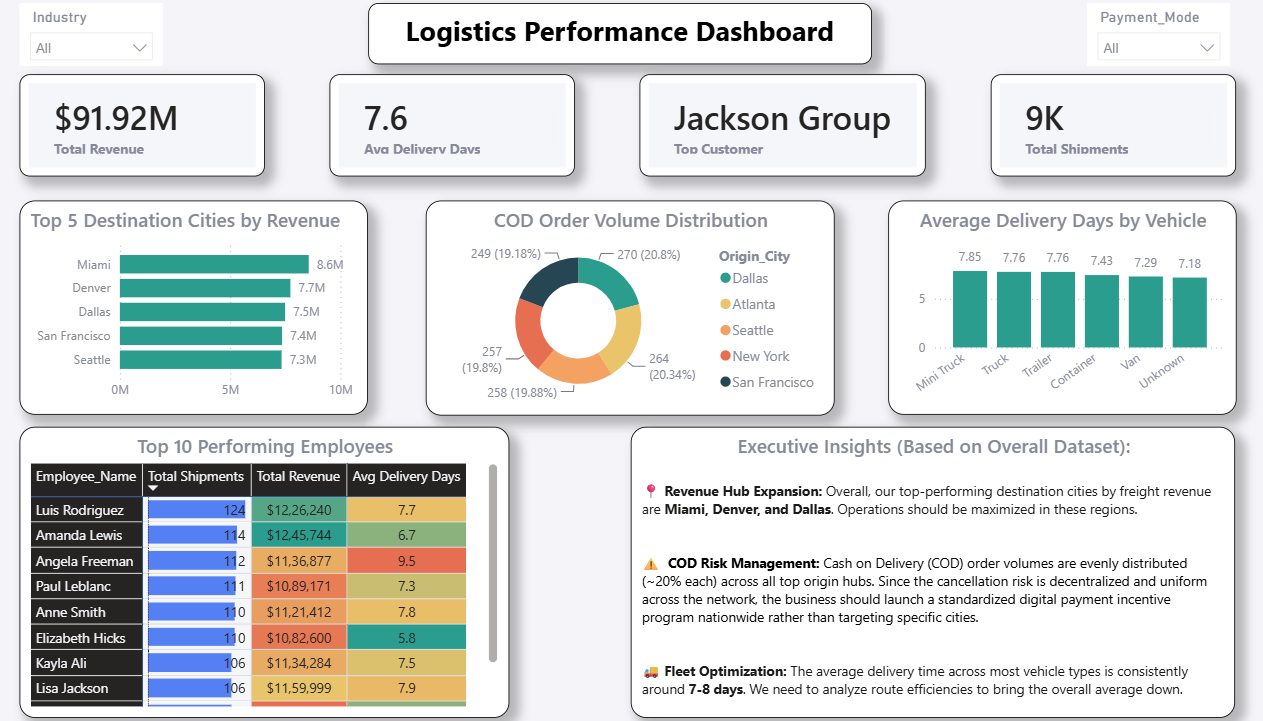

Layout of this report page (visuals, bound fields, positions):
{"tool":"powerbi","page":{"name":"Report","canvas":[1280,720],"ordinal":0},"visuals":[{"type":"textbox","box":[382.7,9.8,492.8,59.9],"z":0},{"type":"slicer","fields":{"Values":["Master_Logistics.Industry"]},"box":[41.3,10,140,61.3],"z":1000},{"type":"slicer","fields":{"Values":["Master_Logistics.Payment_Mode"]},"box":[1086.1,10,140,61.3],"z":2000},{"type":"cardVisual","fields":{"Data":["Master_Logistics.Total Revenue"]},"box":[41.3,79.8,240,100],"z":3000},{"type":"cardVisual","fields":{"Data":["Master_Logistics.Total Shipments"]},"box":[992.1,79.8,240,100],"z":4000},{"type":"cardVisual","fields":{"Data":["Master_Logistics.Avg Delivery Days"]},"box":[344.9,79.8,240,100],"z":5000},{"type":"clusteredBarChart","title":"Top 5 Destination Cities by Revenue","fields":{"Category":["Master_Logistics.Destination_City"],"Y":["Sum(Master_Logistics.Freight_Amount_USD)"]},"box":[41.3,202.4,340.7,209.5],"z":6000},{"type":"donutChart","title":"COD Order Volume Distribution","fields":{"Category":["Master_Logistics.Origin_City"],"Y":["CountNonNull(Master_Logistics.Booking_ID)"],"Series":["Master_Logistics.Payment_Mode"]},"box":[439,202.4,400,210],"z":7000},{"type":"clusteredColumnChart","title":"Average Delivery Days by Vehicle","fields":{"Category":["Master_Logistics.Vehicle_Type"],"Y":["Avg(Master_Logistics.Delivery_Days)"]},"box":[890.9,202.4,340.7,209.5],"z":8000},{"type":"pivotTable","title":"Top 10 Performing Employees","fields":{"Rows":["Master_Logistics.Employee_Name"],"Values":["Master_Logistics.Total Shipments","Master_Logistics.Total Revenue","Master_Logistics.Avg Delivery Days"]},"box":[41.3,424.8,478.9,285.1],"z":9000},{"type":"textbox","title":"Executive Insights (Based on Overall Dataset):","box":[640,424.8,591.5,285.1],"z":10000},{"type":"cardVisual","fields":{"Data":["Min(Master_Logistics.Customer_Name)"]},"box":[648.5,79.8,280,100],"z":11000}]}

Visuals, with their boxes in screenshot pixels (x1, y1, x2, y2), scaled from the page's 1280x720 canvas onto the 1263x721 screenshot:
textbox: <bbox>378, 10, 864, 70</bbox>
slicer - Master_Logistics.Industry: <bbox>41, 10, 179, 71</bbox>
slicer - Master_Logistics.Payment_Mode: <bbox>1072, 10, 1210, 71</bbox>
cardVisual - Master_Logistics.Total Revenue: <bbox>41, 80, 278, 180</bbox>
cardVisual - Master_Logistics.Total Shipments: <bbox>979, 80, 1216, 180</bbox>
cardVisual - Master_Logistics.Avg Delivery Days: <bbox>340, 80, 577, 180</bbox>
"Top 5 Destination Cities by Revenue" clusteredBarChart: <bbox>41, 203, 377, 412</bbox>
"COD Order Volume Distribution" donutChart: <bbox>433, 203, 828, 413</bbox>
"Average Delivery Days by Vehicle" clusteredColumnChart: <bbox>879, 203, 1215, 412</bbox>
"Top 10 Performing Employees" pivotTable: <bbox>41, 425, 513, 711</bbox>
"Executive Insights (Based on Overall Dataset):" textbox: <bbox>632, 425, 1215, 711</bbox>
cardVisual - Min(Master_Logistics.Customer_Name): <bbox>640, 80, 916, 180</bbox>
